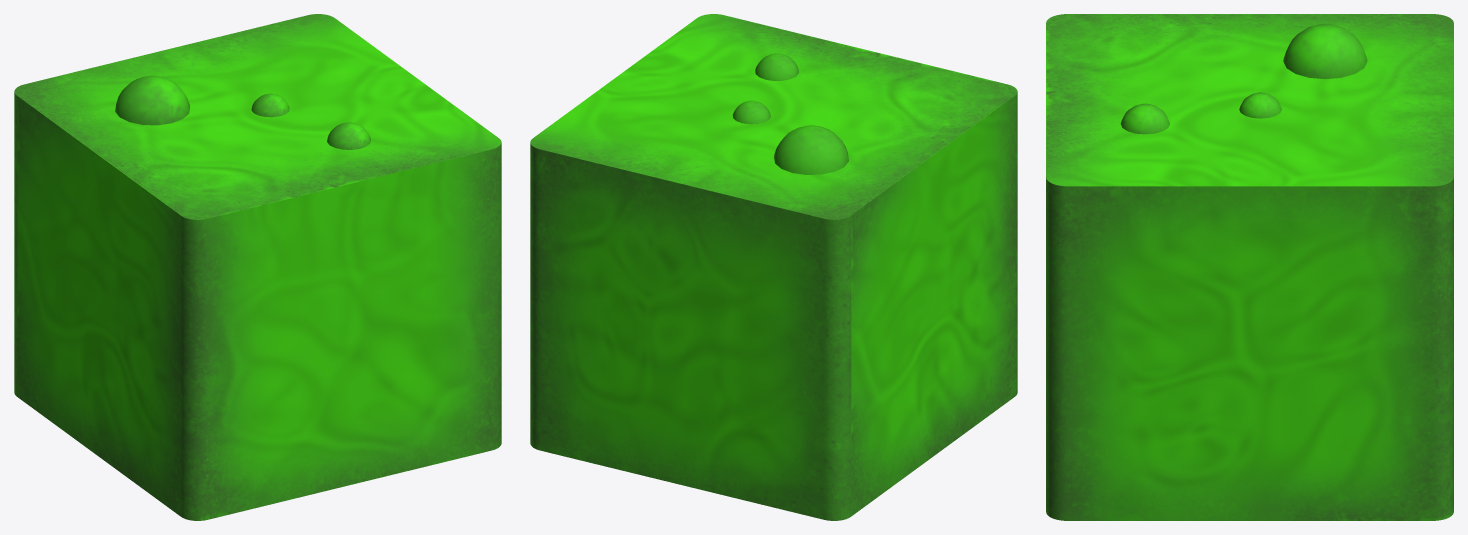
Rendered from Jelly.fbx.
The picture shows the model from 3 angles, left to right: view 1: azimuth 30°, elevation 25°; view 2: azimuth 150°, elevation 25°; view 3: azimuth 270°, elevation 25°; orthographic projection. The views are drawn at different scales.
Visible parts, largest first — view 1: big_toxic, bulp, bulp.004, bulp.002; view 2: big_toxic, bulp, bulp.004, bulp.002; view 3: big_toxic, bulp, bulp.004, bulp.002.
Part boxes in pixels (x1,y1,x2,y2): big_toxic: (14,14,501,520); bulp: (115,75,189,125); bulp.004: (327,122,370,149); bulp.002: (251,93,289,117); big_toxic: (530,14,1017,520); bulp: (774,125,848,174); bulp.004: (755,53,798,80); bulp.002: (732,100,770,124); big_toxic: (1046,14,1453,520); bulp: (1283,23,1367,79); bulp.004: (1120,103,1169,134); bulp.002: (1239,92,1281,118).
Bounding box in the file's own units: 263 × 263 × 263.
